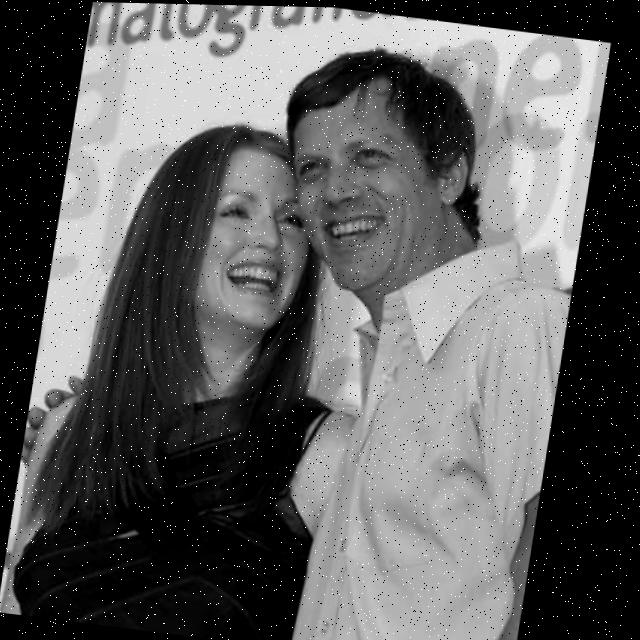face: (267, 43, 482, 311), (154, 107, 335, 347)
